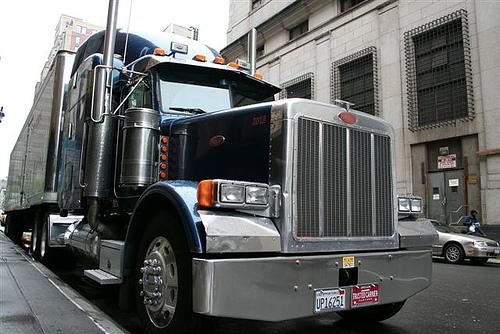truck: (4, 0, 441, 334)
